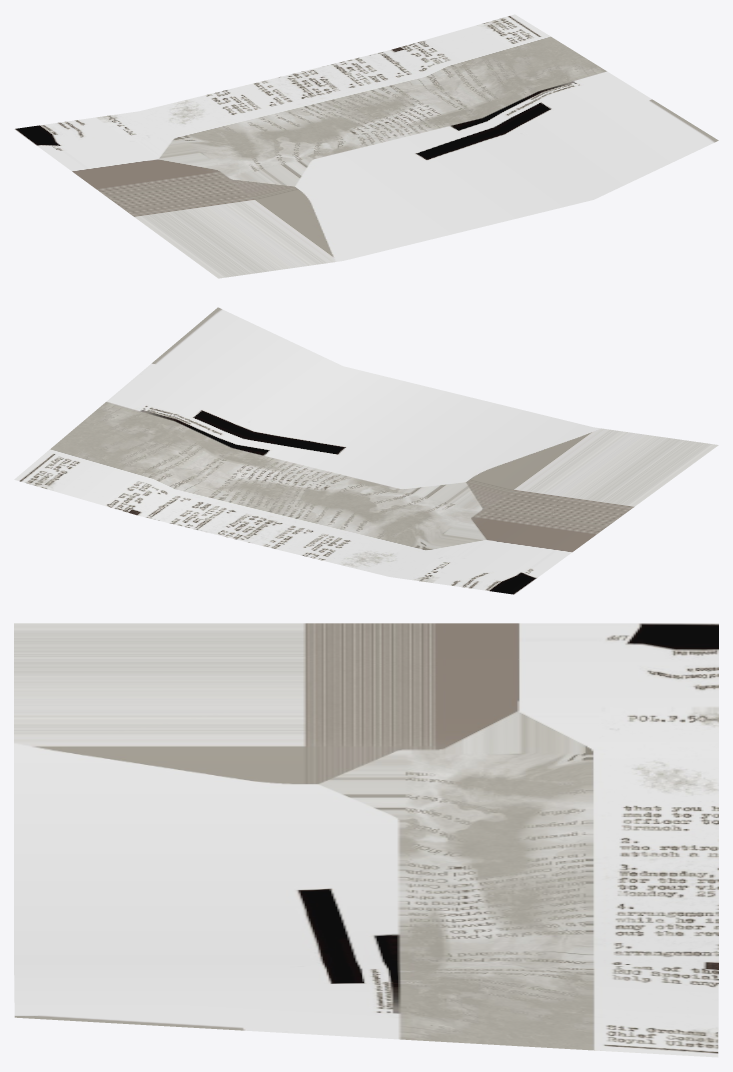
File: SM_Prop_Stick_Paper_03.fbx
3 renders of one model, top to bottom at view 1: azimuth 30°, elevation 25°; view 2: azimuth 150°, elevation 25°; view 3: azimuth 270°, elevation 25°, orthographic. The views are drawn at different scales.
Visible parts, largest first — view 1: SM_Prop_Stick_Paper_03; view 2: SM_Prop_Stick_Paper_03; view 3: SM_Prop_Stick_Paper_03.
Part boxes in pixels (x1,y1,x2,y2): SM_Prop_Stick_Paper_03: (14, 14, 718, 278); SM_Prop_Stick_Paper_03: (14, 307, 718, 594); SM_Prop_Stick_Paper_03: (14, 623, 718, 1057).
Bounding box in the file's own units: 39.12 × 2.13 × 27.66.
Materials: 1 (1 with a texture image).
